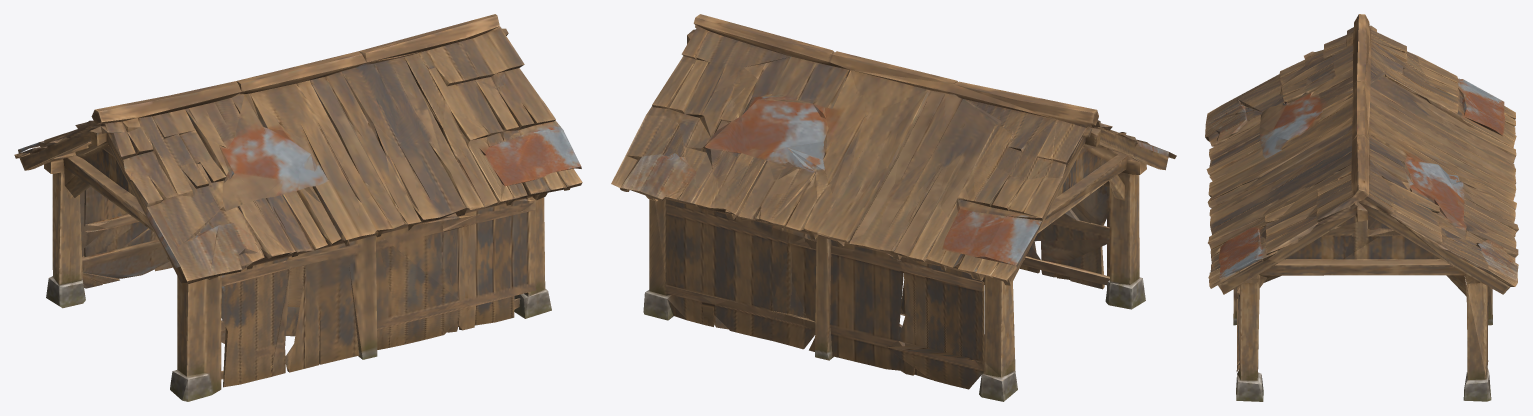
The picture shows the model from 3 angles, left to right: view 1: azimuth 30°, elevation 25°; view 2: azimuth 150°, elevation 25°; view 3: azimuth 270°, elevation 25°; orthographic projection. The views are drawn at different scales.
Visible parts, largest first — view 1: Mesh_0; view 2: Mesh_0; view 3: Mesh_0.
Boxes of the visible parts, bbox=[...] form: Mesh_0: bbox=[14, 14, 582, 401]; Mesh_0: bbox=[611, 14, 1176, 401]; Mesh_0: bbox=[1205, 14, 1518, 401].
Size of the model in its own units: 1.9 by 1.08 by 1.4.
Materials: 1 (1 with a texture image).
